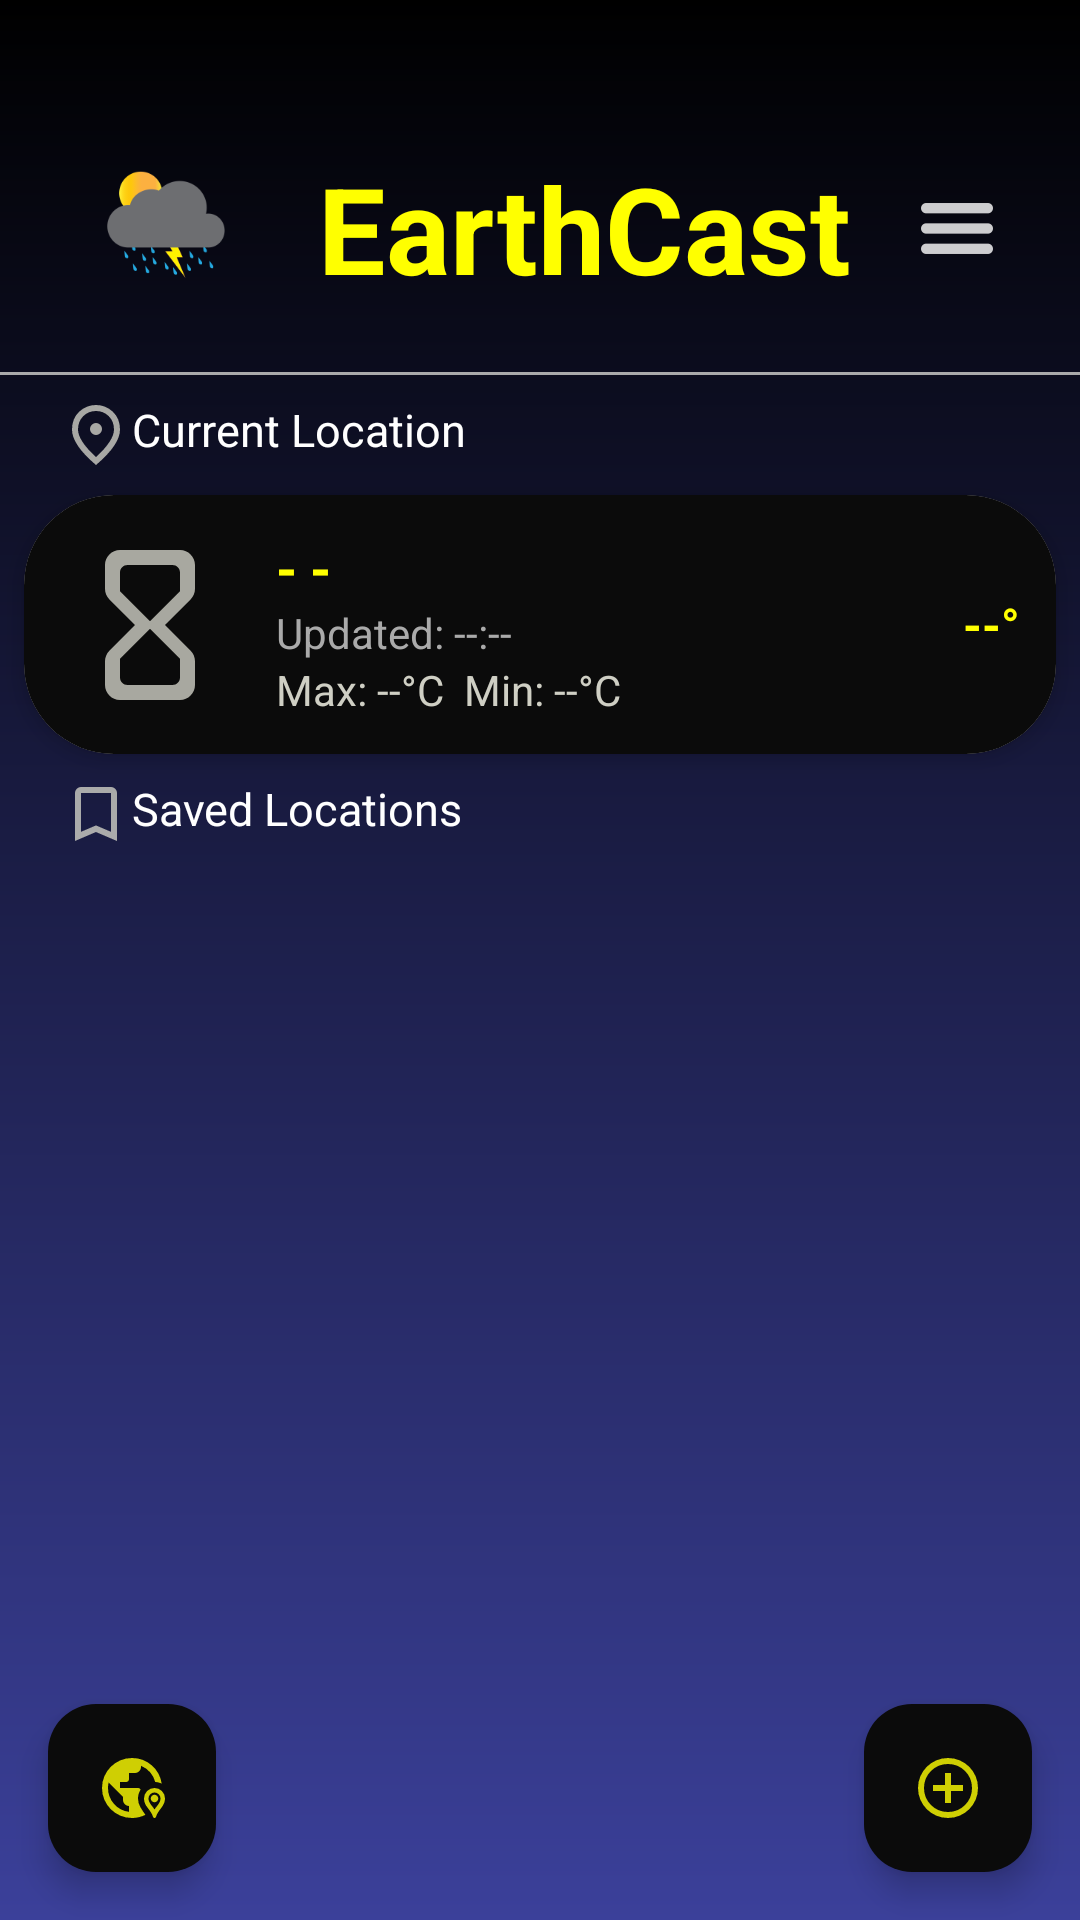

Where to tap for icons on this 1080*1920 app screen, as (x,y):
Hamburger Menu: (957,228)
